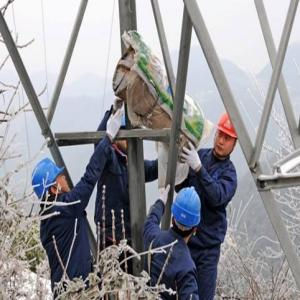blue: (32, 159, 72, 207), (171, 188, 202, 239)
red: (213, 112, 239, 159)
